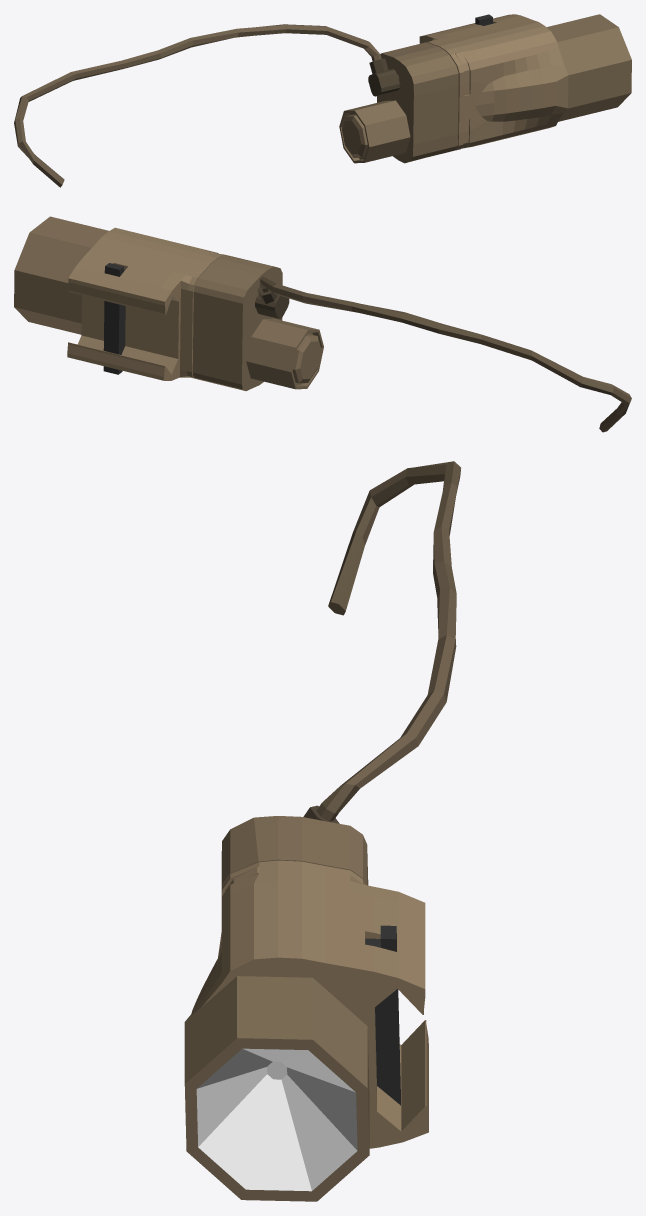
The model's file is Flash-Light_GLTF.glb.
3 views of the same model, one above another, from view 1: azimuth 30°, elevation 25°; view 2: azimuth 150°, elevation 25°; view 3: azimuth 270°, elevation 25° (orthographic). The views are drawn at different scales.
Parts seen in each view (by area): view 1: Flash-Light; view 2: Flash-Light; view 3: Flash-Light.
Boxes of the visible parts, x1,y1,x2,y2 form: Flash-Light: (14,14,631,187); Flash-Light: (14,216,631,432); Flash-Light: (184,461,460,1201).
Bounding box in the file's own units: 3.44 × 0.7696 × 0.727.
